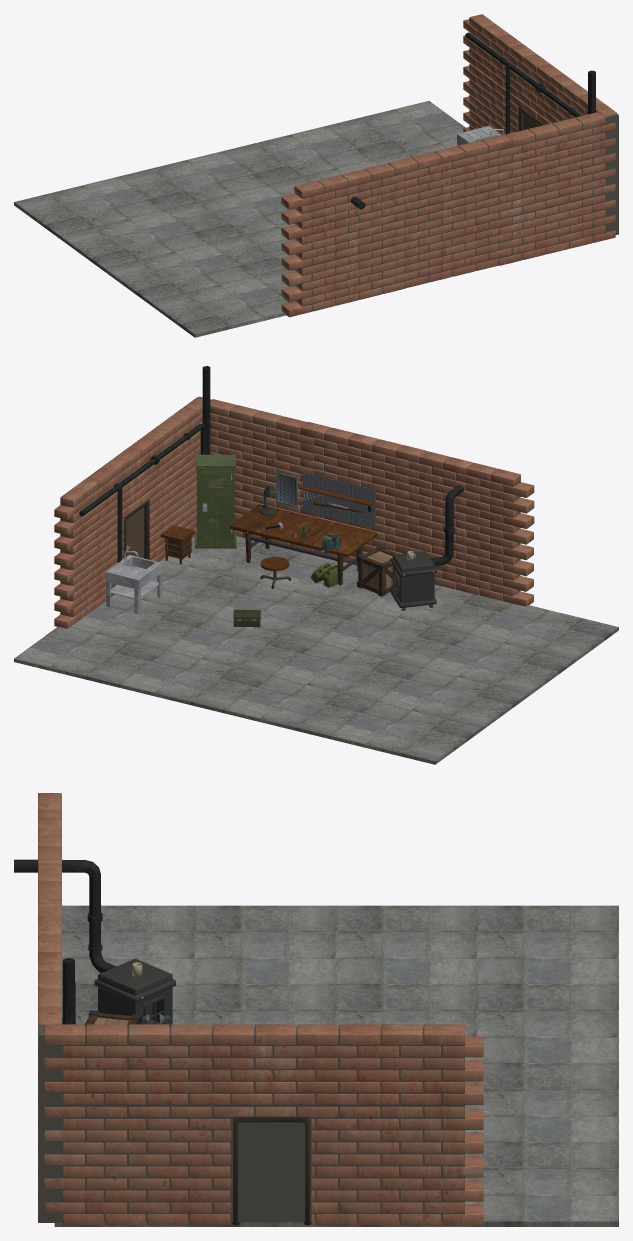
File: full-scene.glb
The picture shows the model from 3 angles, top to bottom: view 1: azimuth 30°, elevation 25°; view 2: azimuth 150°, elevation 25°; view 3: azimuth 270°, elevation 25°; orthographic projection. The views are drawn at different scales.
Parts seen in each view (by area): view 1: Plane.002, Cube.001, Cube.008, Cube.004, Цемент, Cylinder.016, Cube.022; view 2: Plane.002, Cube.001, Cube.008, Cube.004, Cube.011, Workbench_Top, Backboard, Cube.010, Cube.022, Цемент, Cylinder.016, Cylinder.012 (+5 smaller); view 3: Plane.002, Cube.001, Цемент, Cube.010, Cube.004, Cylinder.012, Cube.008, Plane.008, Cylinder.015.
Boxes of the visible parts, x1,y1,x2,y2 form: Plane.002: [14, 101, 465, 337]; Cube.001: [463, 14, 616, 265]; Cube.008: [281, 163, 405, 317]; Cube.004: [388, 134, 511, 287]; Цемент: [302, 113, 618, 309]; Cylinder.016: [465, 32, 582, 117]; Cube.022: [457, 125, 501, 145]; Plane.002: [14, 536, 618, 764]; Cube.001: [54, 397, 313, 628]; Cube.008: [408, 451, 534, 606]; Cube.004: [300, 422, 425, 565]; Cube.011: [194, 454, 236, 548]; Workbench_Top: [230, 504, 377, 557]; Backboard: [302, 472, 375, 528]; Cube.010: [390, 551, 436, 607]; Cube.022: [106, 555, 162, 589]; Цемент: [60, 396, 512, 616]; Cylinder.016: [79, 424, 206, 516]; Cylinder.012: [430, 485, 463, 565]; Plane.002: [54, 905, 618, 1226]; Cube.001: [38, 953, 483, 1225]; Цемент: [38, 1025, 464, 1221]; Cube.010: [94, 958, 175, 1024]; Cube.004: [38, 863, 61, 953]; Cylinder.012: [14, 859, 116, 972]; Cube.008: [38, 793, 61, 863]; Plane.008: [231, 1117, 311, 1225]; Cylinder.015: [62, 958, 74, 1024].
Bounding box in the file's own units: 15.1 × 5.65 × 12.11.
Materials: 41 (21 with a texture image).
